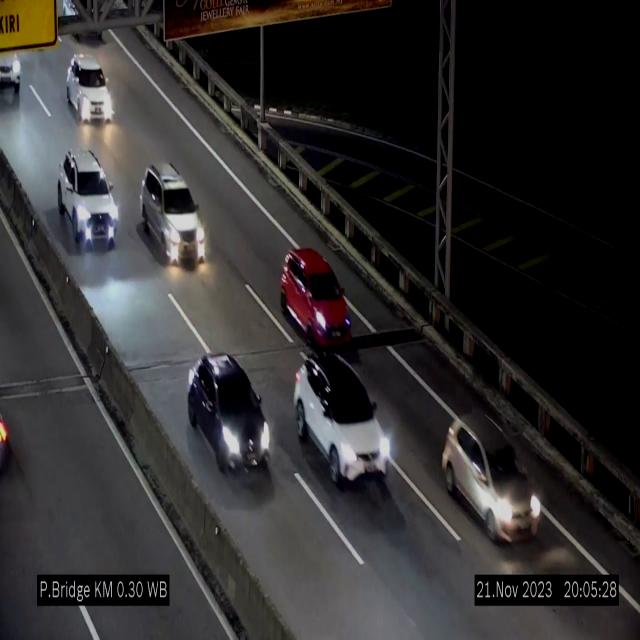Car: (439, 404, 541, 554), (294, 353, 392, 485), (189, 349, 275, 479), (280, 248, 353, 347), (140, 161, 206, 267), (57, 153, 123, 256), (67, 56, 113, 122)
